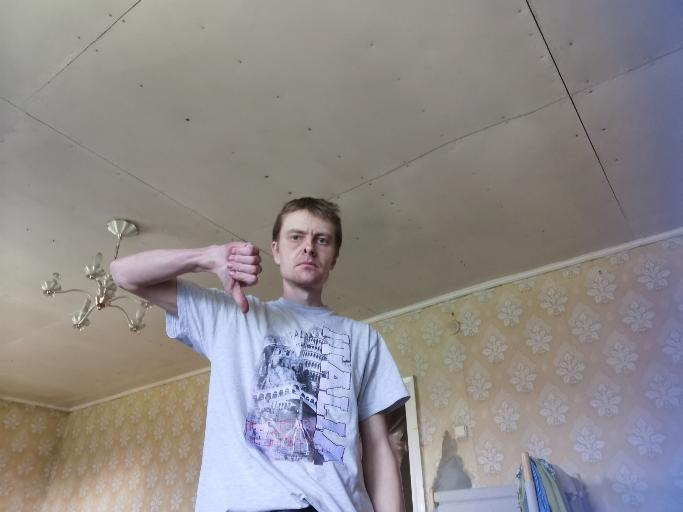dislike: (212, 238, 263, 315)
